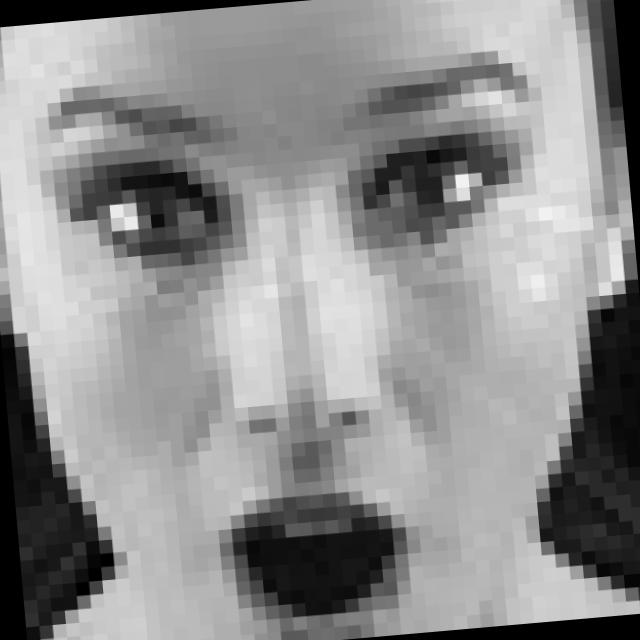surprise: (21, 31, 590, 640)
